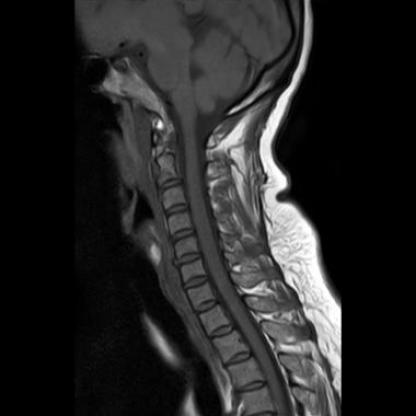Disc Bulgerotation: (169, 227, 195, 243), (180, 276, 209, 290), (174, 251, 200, 266), (156, 178, 183, 192), (163, 204, 190, 217)
Disc Herniationrotation: (194, 298, 221, 314)
